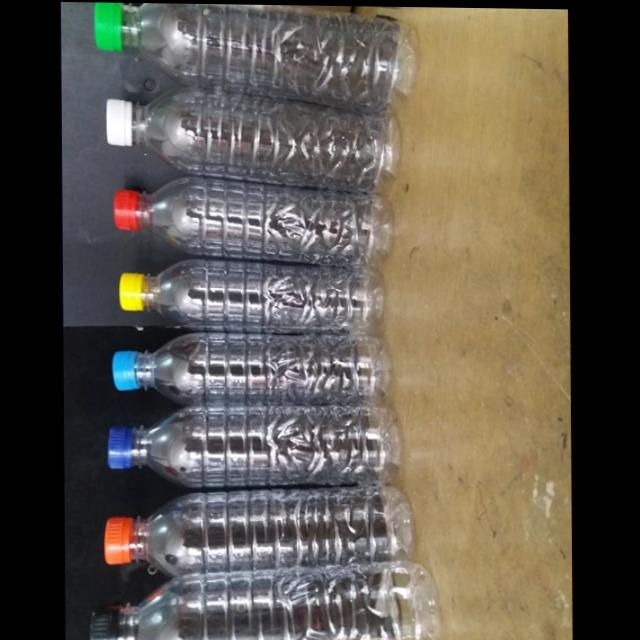bottle: (101, 479, 419, 576), (88, 554, 443, 640), (101, 396, 408, 491), (86, 89, 415, 175), (86, 1, 416, 86), (108, 178, 399, 255), (112, 331, 389, 407), (115, 261, 379, 327)
